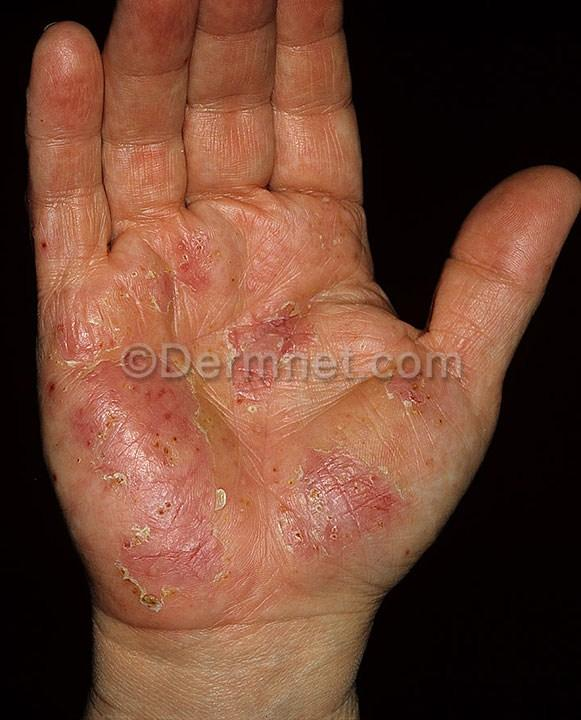Eczema: (57, 378, 282, 625), (286, 391, 448, 574), (137, 226, 274, 349), (36, 208, 128, 375), (230, 288, 359, 350)
